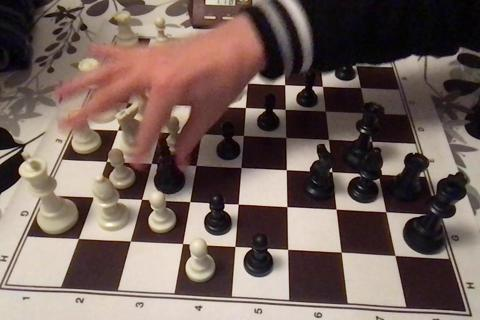xcorner: (309, 58, 322, 71), (273, 56, 286, 69), (237, 55, 250, 68), (201, 53, 214, 66), (165, 52, 178, 65), (130, 50, 143, 63), (349, 82, 362, 95), (311, 80, 324, 93), (273, 79, 286, 92), (235, 77, 248, 90), (159, 74, 172, 87), (122, 72, 135, 85), (354, 107, 367, 120), (232, 102, 245, 115), (192, 100, 205, 113), (152, 98, 165, 111), (359, 136, 372, 149), (187, 128, 200, 141), (102, 124, 115, 137), (365, 169, 378, 182), (318, 166, 331, 179), (272, 164, 285, 177), (181, 160, 194, 173), (272, 201, 285, 214), (223, 199, 236, 212), (174, 196, 187, 209), (125, 194, 138, 207), (77, 191, 90, 204), (326, 247, 339, 260), (272, 244, 285, 257), (219, 241, 232, 254), (166, 238, 179, 251), (61, 233, 74, 246), (345, 60, 358, 72), (197, 76, 210, 88), (313, 106, 326, 118), (273, 104, 285, 117), (113, 97, 126, 109), (316, 134, 328, 147), (273, 132, 285, 145), (230, 130, 242, 143), (145, 126, 157, 139), (227, 162, 239, 175), (136, 158, 149, 170), (91, 155, 103, 168), (372, 206, 384, 219), (322, 204, 335, 216), (380, 250, 392, 263), (114, 236, 127, 248)
